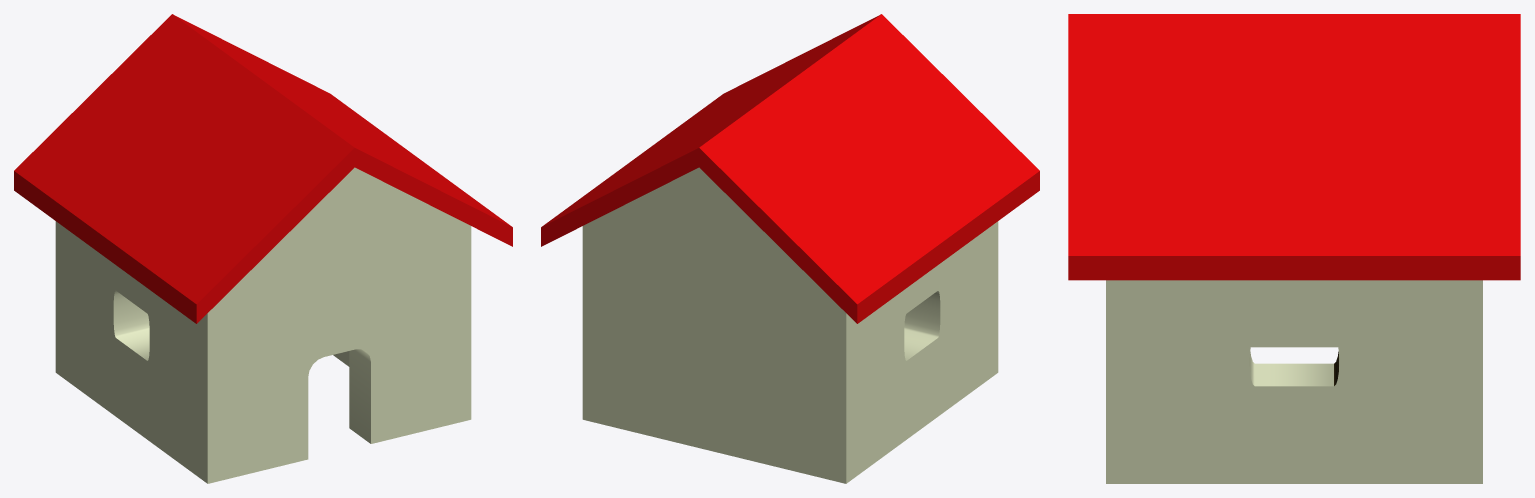
The model's file is House2.fbx.
3 renders of one model, left to right at view 1: azimuth 30°, elevation 25°; view 2: azimuth 150°, elevation 25°; view 3: azimuth 270°, elevation 25°, orthographic. The views are drawn at different scales.
Visible parts, largest first — view 1: Cube; view 2: Cube; view 3: Cube.
Boxes of the visible parts, <box> form: Cube: <box>14,14,512,483</box>; Cube: <box>541,14,1039,483</box>; Cube: <box>1068,14,1520,483</box>.
Size of the model in its own units: 1680 by 1600 by 1680.
